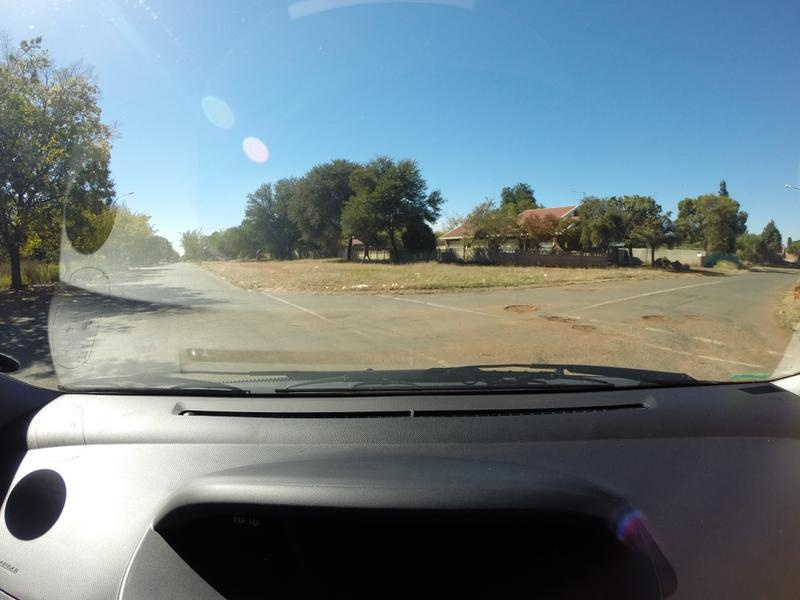pothole: (639, 311, 674, 324), (501, 301, 536, 313), (548, 311, 574, 327), (685, 311, 709, 327), (574, 320, 596, 335)
